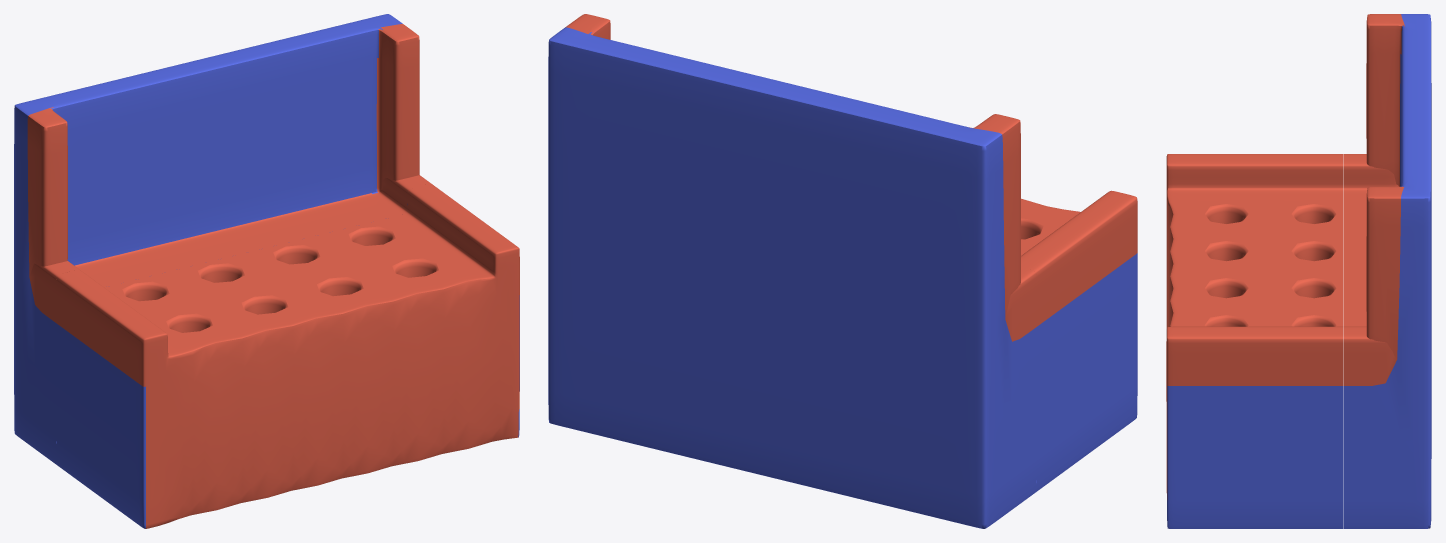
Rendered from whak_a_mole_plus_fin.fbx.
The picture shows the model from 3 angles, left to right: view 1: azimuth 30°, elevation 25°; view 2: azimuth 150°, elevation 25°; view 3: azimuth 270°, elevation 25°; orthographic projection. The views are drawn at different scales.
Visible parts, largest first — view 1: Cube; view 2: Cube; view 3: Cube.
Part boxes in pixels (box(x1,y1,x2,y2)): Cube: box(14, 14, 519, 528); Cube: box(548, 14, 1137, 528); Cube: box(1166, 14, 1431, 528).
Bounding box in the file's own units: 582 × 352 × 487.
